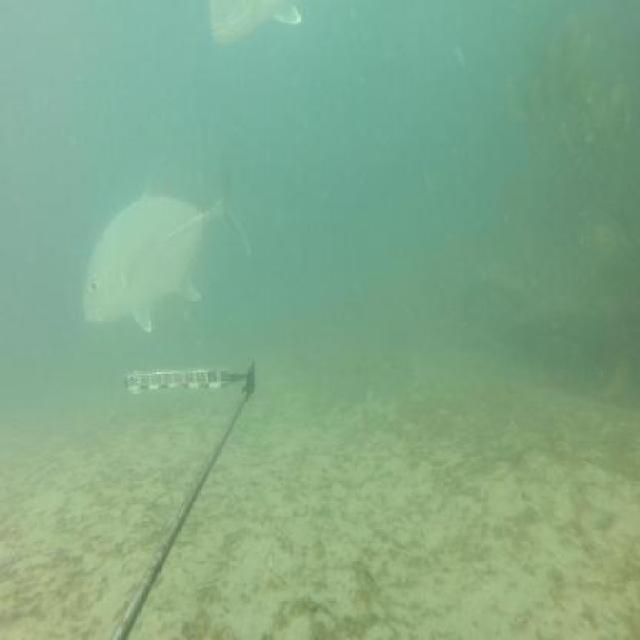Caranx: (80, 164, 252, 338)
